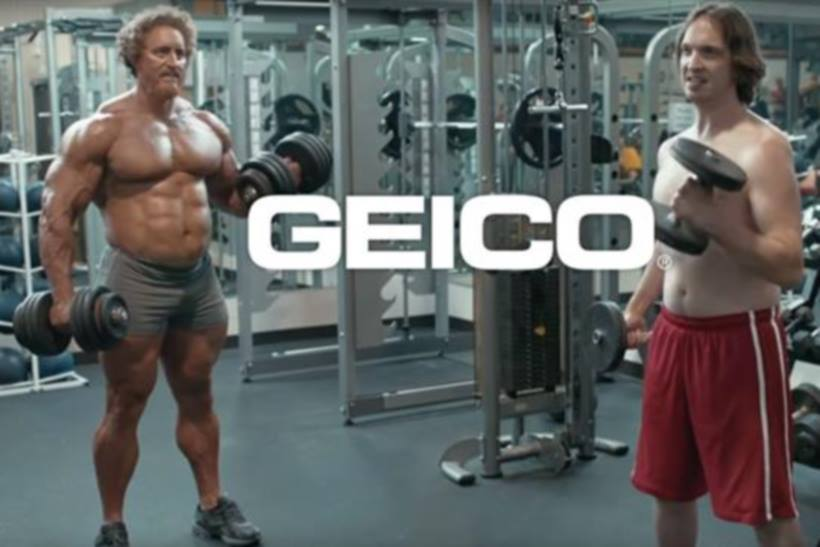geico: (244, 190, 655, 277)
